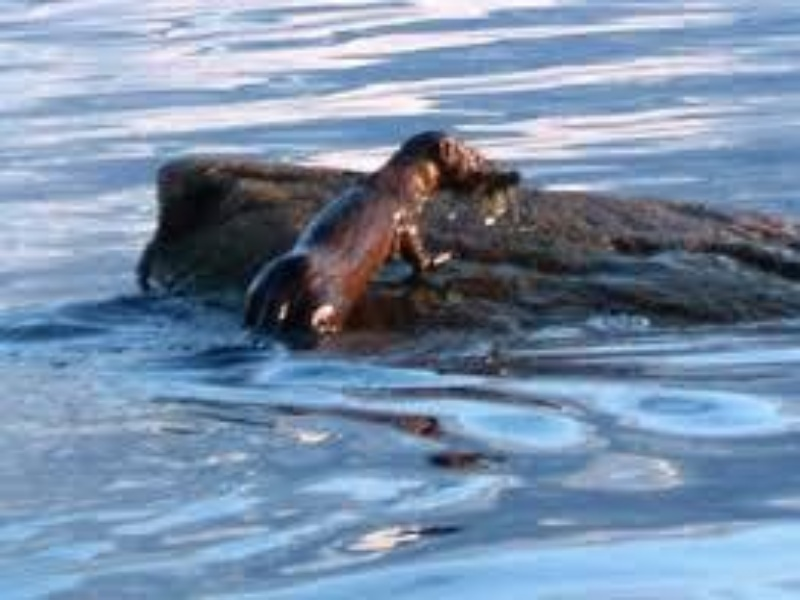minkish: (240, 128, 501, 369)
